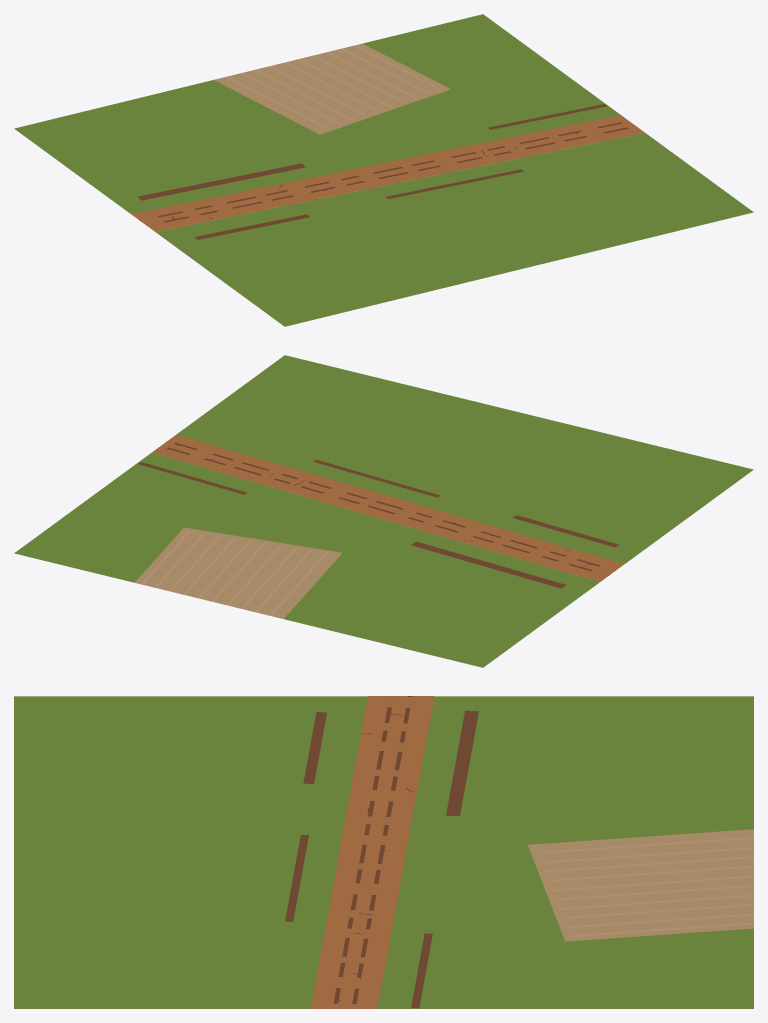
Rendered from crossing-4-6.glb.
3 renders of one model, top to bottom at view 1: azimuth 30°, elevation 25°; view 2: azimuth 150°, elevation 25°; view 3: azimuth 270°, elevation 25°, orthographic. The views are drawn at different scales.
Visible parts, largest first — view 1: crossing-4-6; view 2: crossing-4-6; view 3: crossing-4-6.
Boxes of the visible parts, box(x1,y1,x2,y2) form: crossing-4-6: box(14, 14, 753, 326); crossing-4-6: box(14, 355, 753, 667); crossing-4-6: box(14, 696, 753, 1008).
Size of the model in its own units: 100 by 0.0135 by 100.
